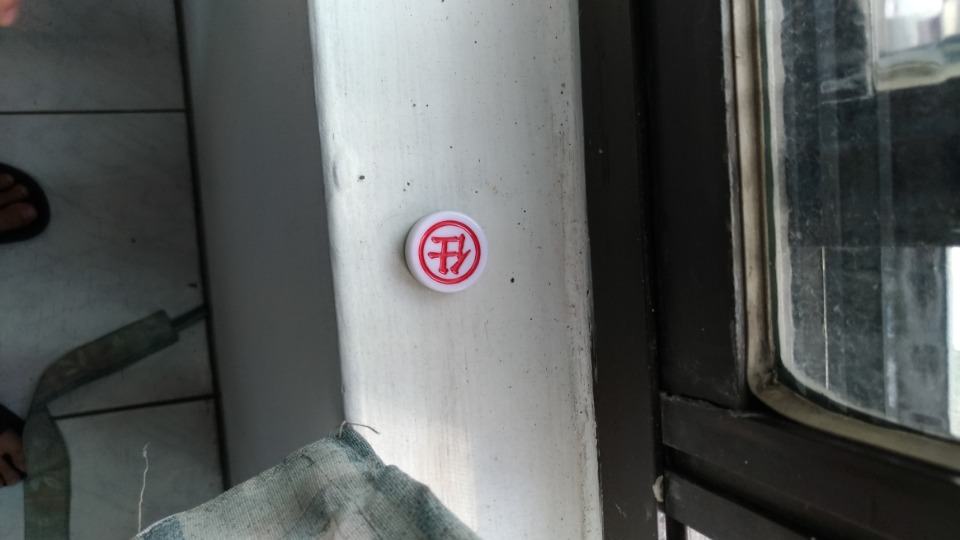r-advisor: (396, 201, 510, 306)
